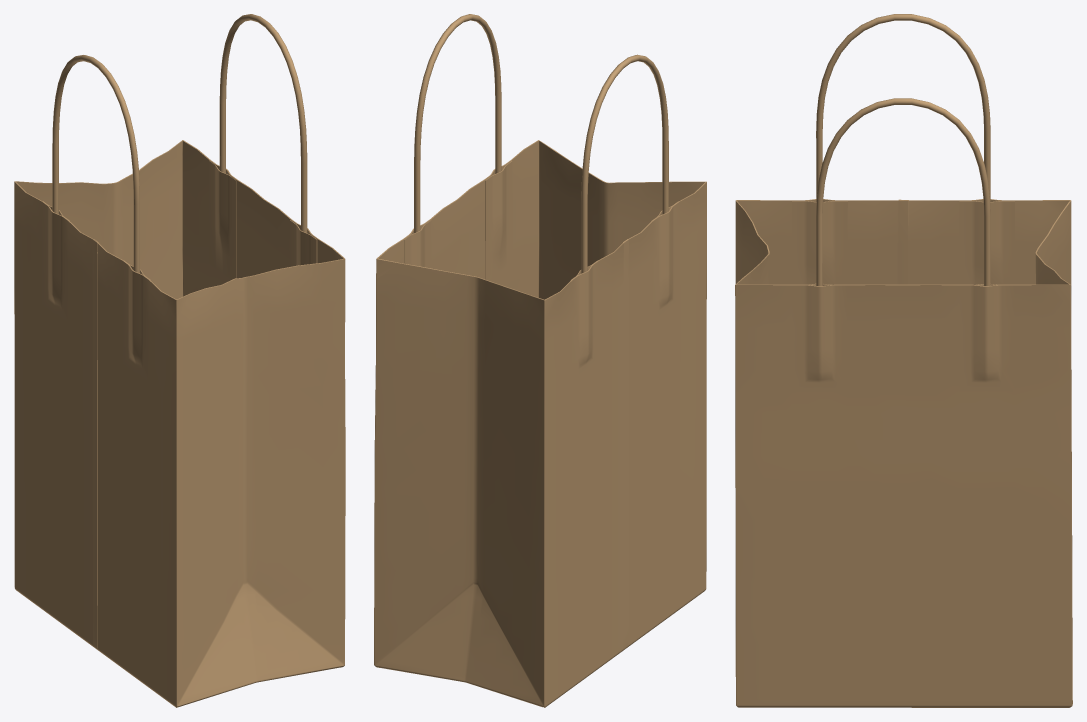
File: paperbag_a02.glb
The picture shows the model from 3 angles, left to right: view 1: azimuth 30°, elevation 25°; view 2: azimuth 150°, elevation 25°; view 3: azimuth 270°, elevation 25°; orthographic projection. The views are drawn at different scales.
Size of the model in its own units: 0.1579 by 0.5099 by 0.2556.
